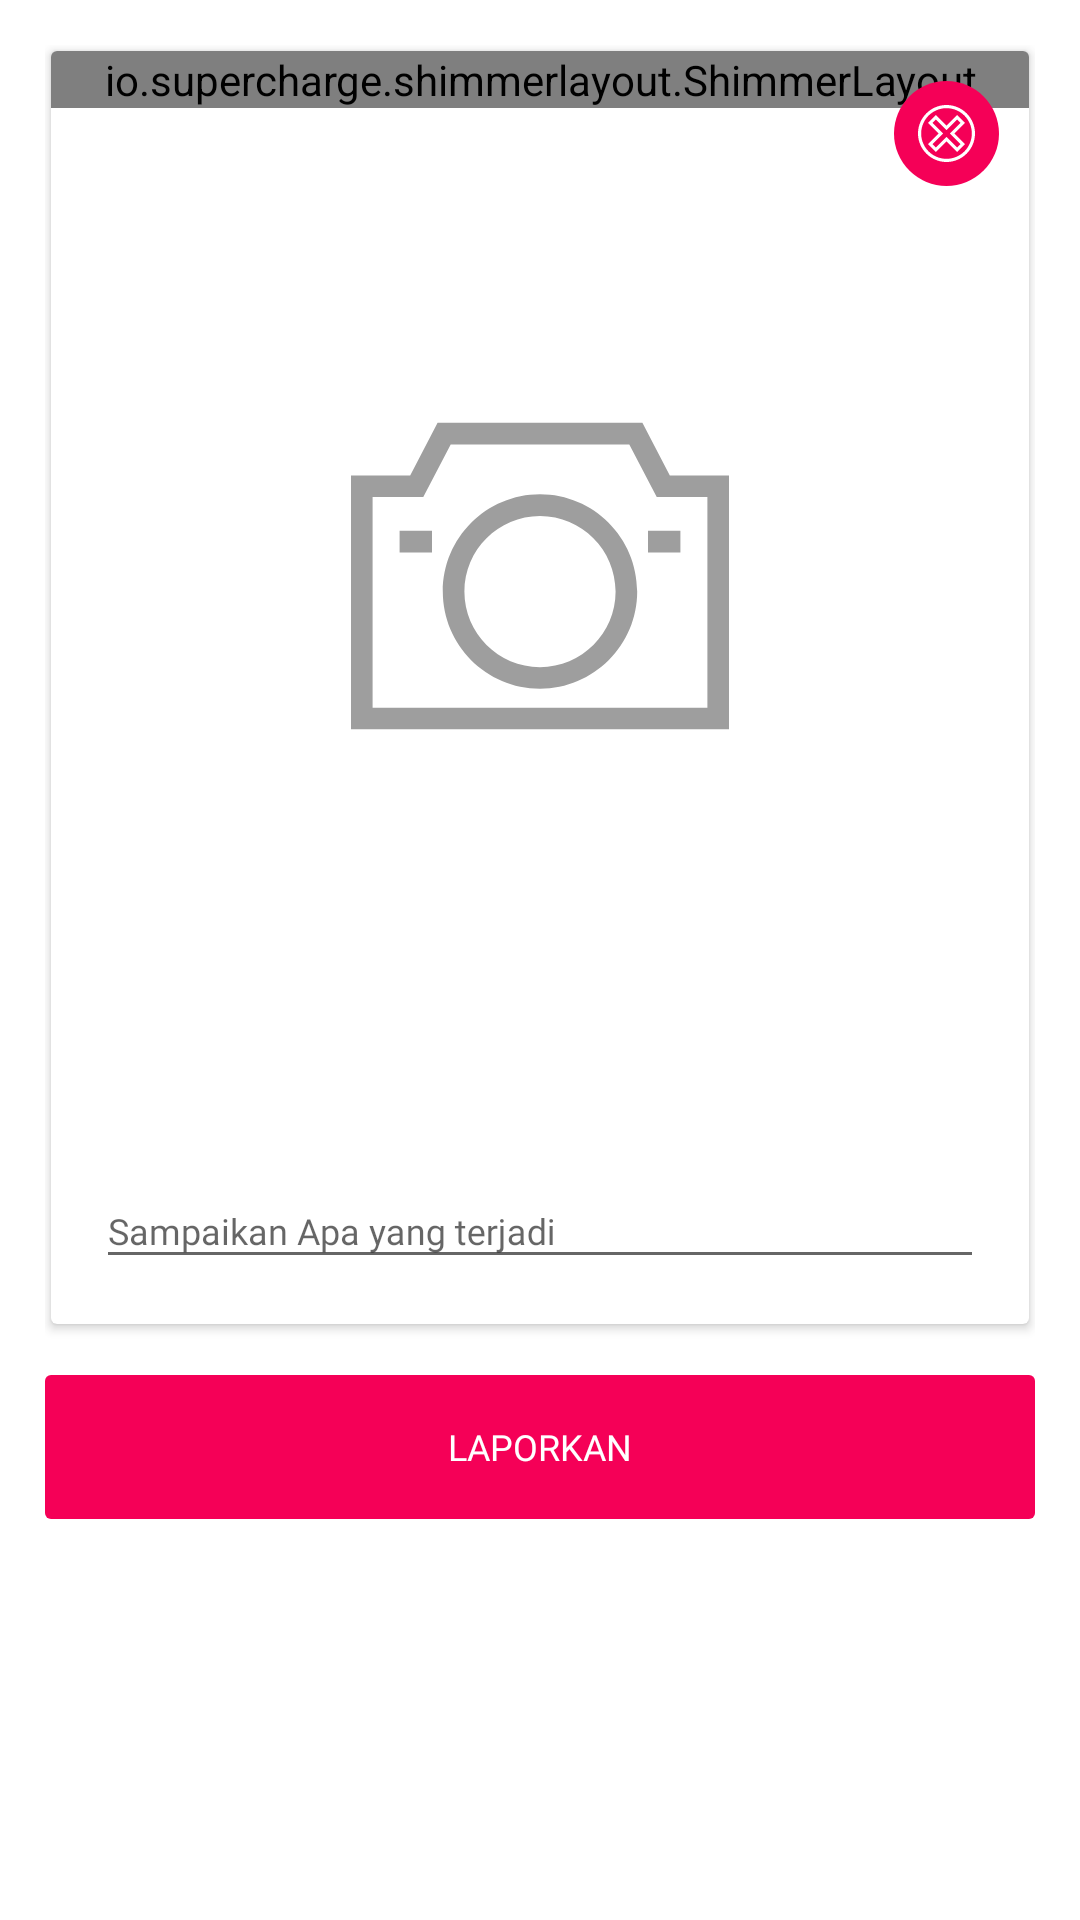

Screen size 1080w x 1920h. Icon name, then its box in pixels as (x1, y1, x2, y2):
cancel: (894, 81, 999, 186)
